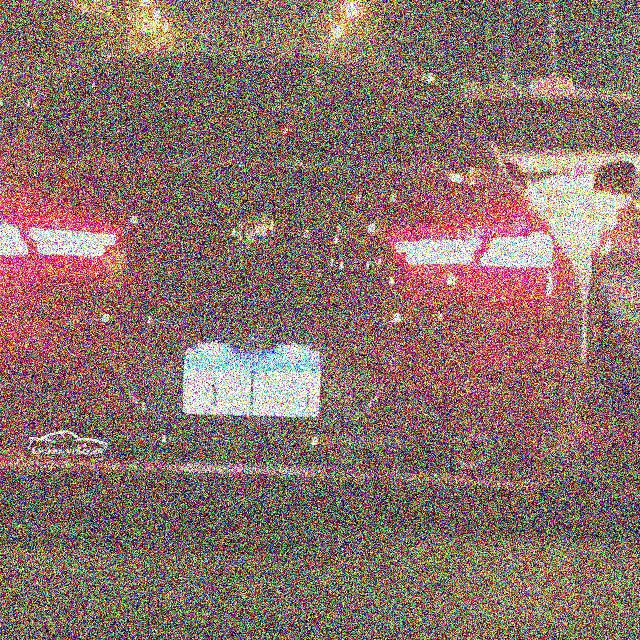License Plate: (178, 337, 325, 421)
